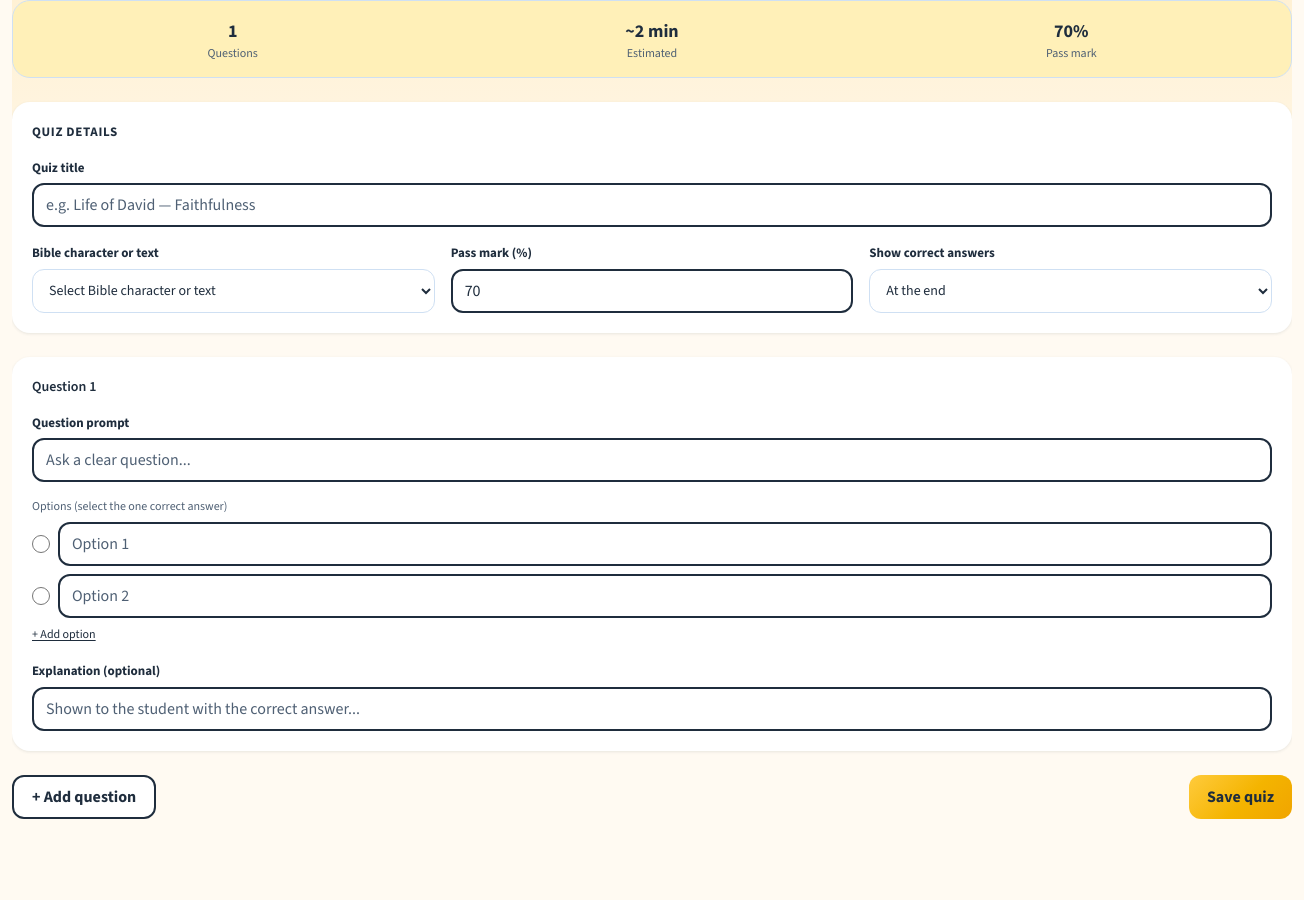
Test case: QuizBuilder › saves when title, Bible link, pass mark, options, and correct answer are valid
This screenshot has width=1304, height=900.
Type "Faith Quiz" into the field labelled "Quiz title".
click(652, 205); type("Faith Quiz")  # box 32,183 -> 1272,227
Select "David (Character)" in the dropdown labelled "Bible character or text" at (233, 290), box 32,268 -> 435,312
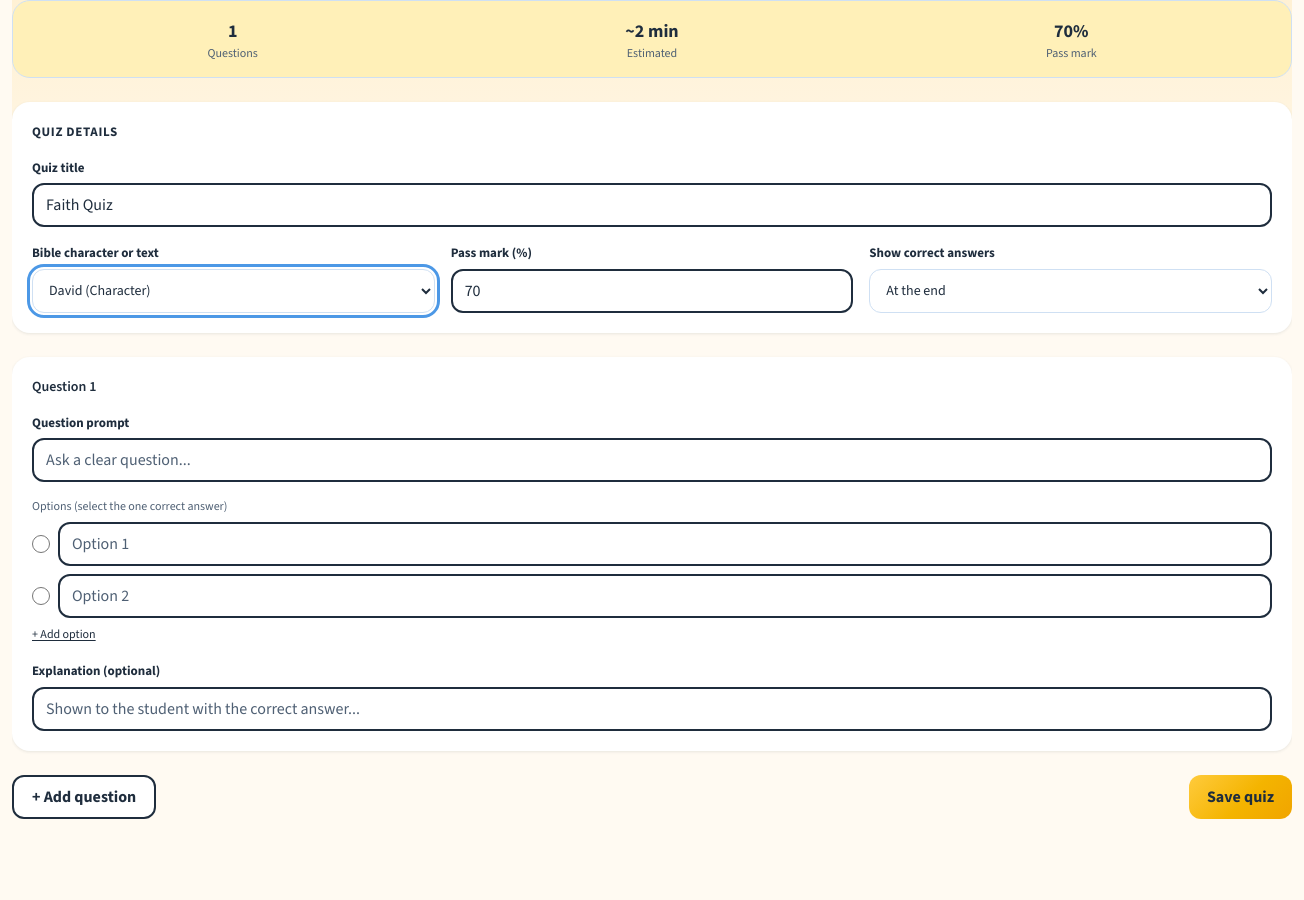
Type "Who defeated Goliath?" into the field labelled "Question prompt".
click(652, 460); type("Who defeated Goliath?")  # box 32,438 -> 1272,482
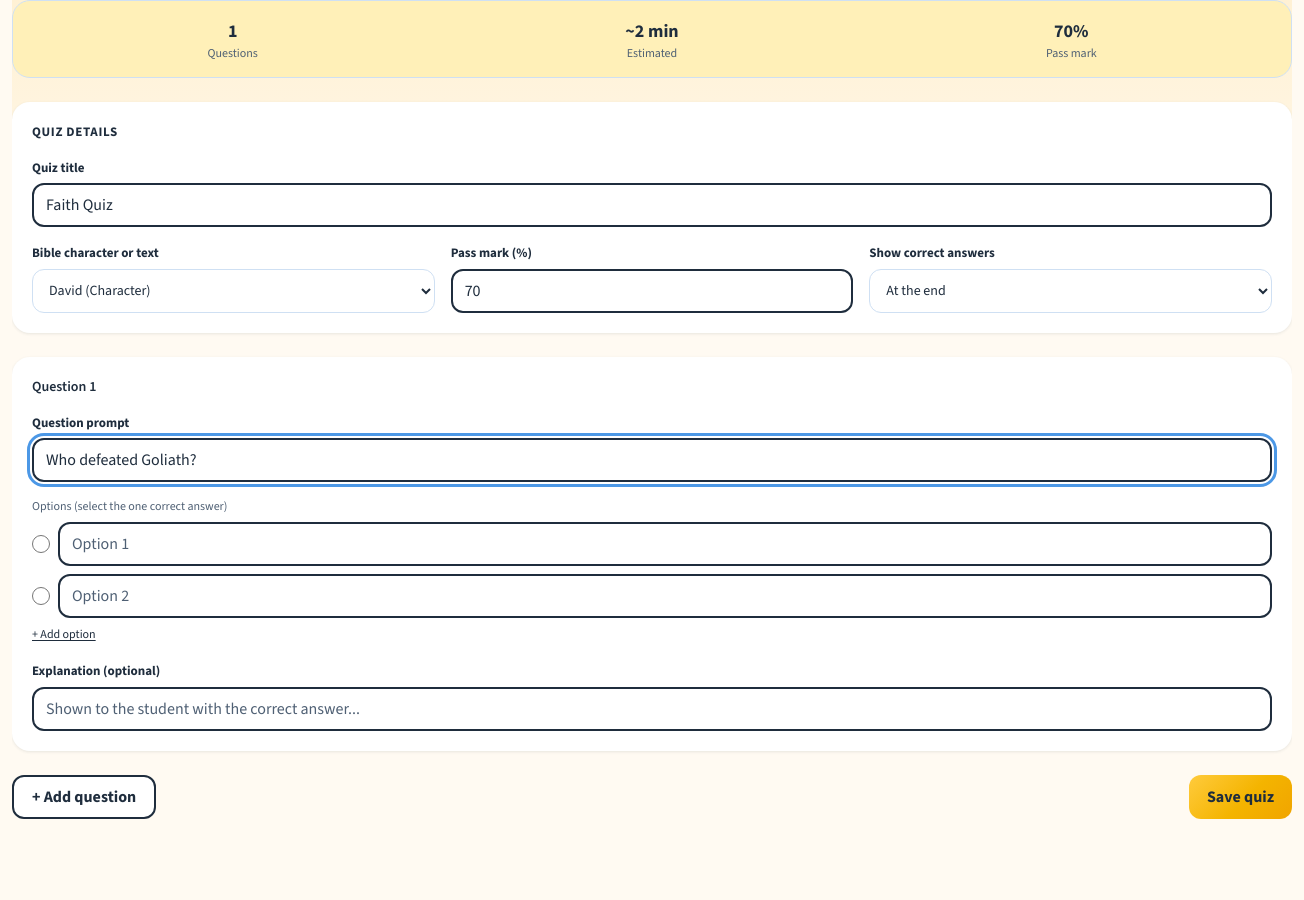
Type "David" into the field named "option 1 text".
click(665, 544); type("David")  # box 58,522 -> 1272,566
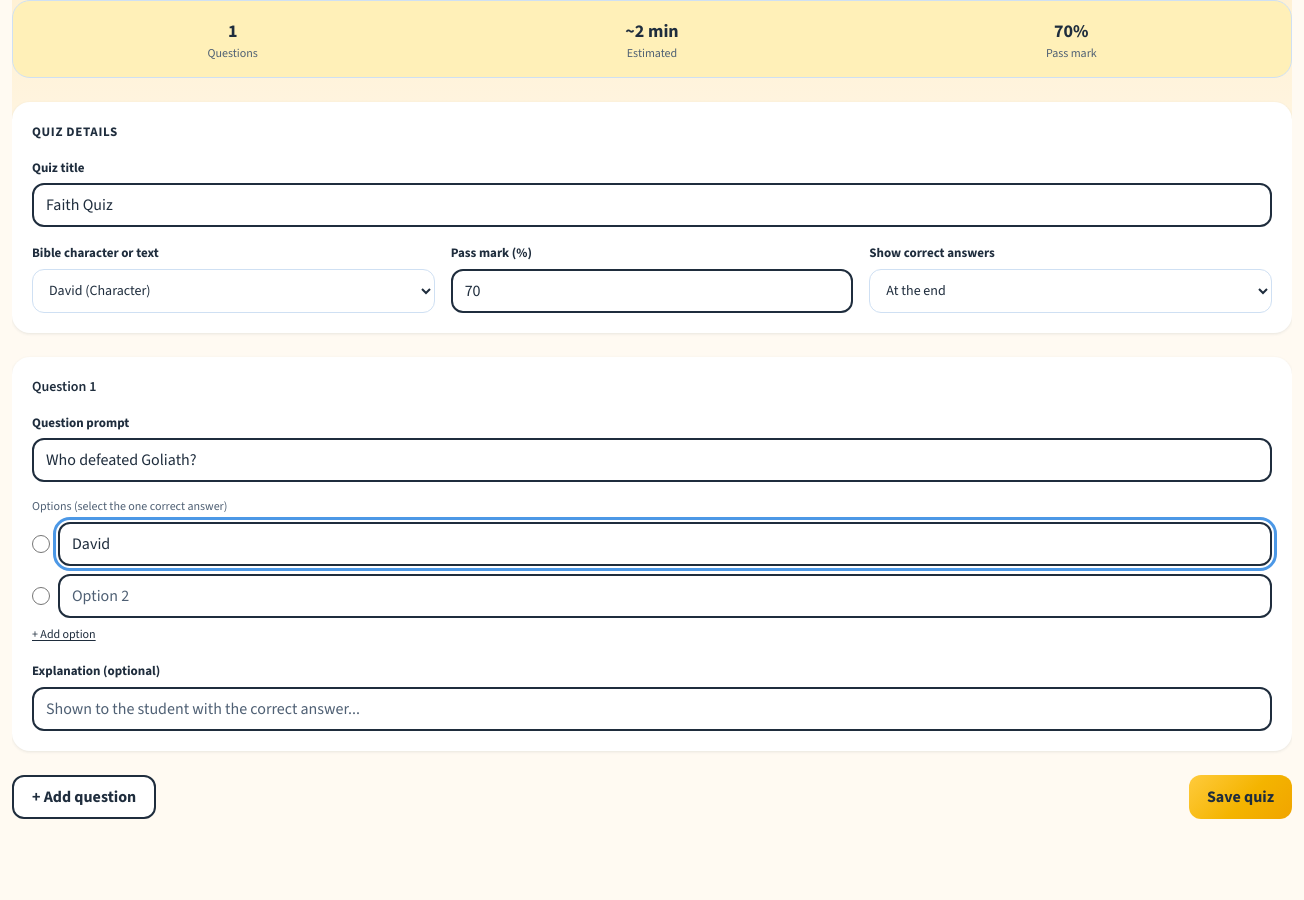
Type "Saul" into the field named "option 2 text".
click(665, 596); type("Saul")  # box 58,574 -> 1272,618
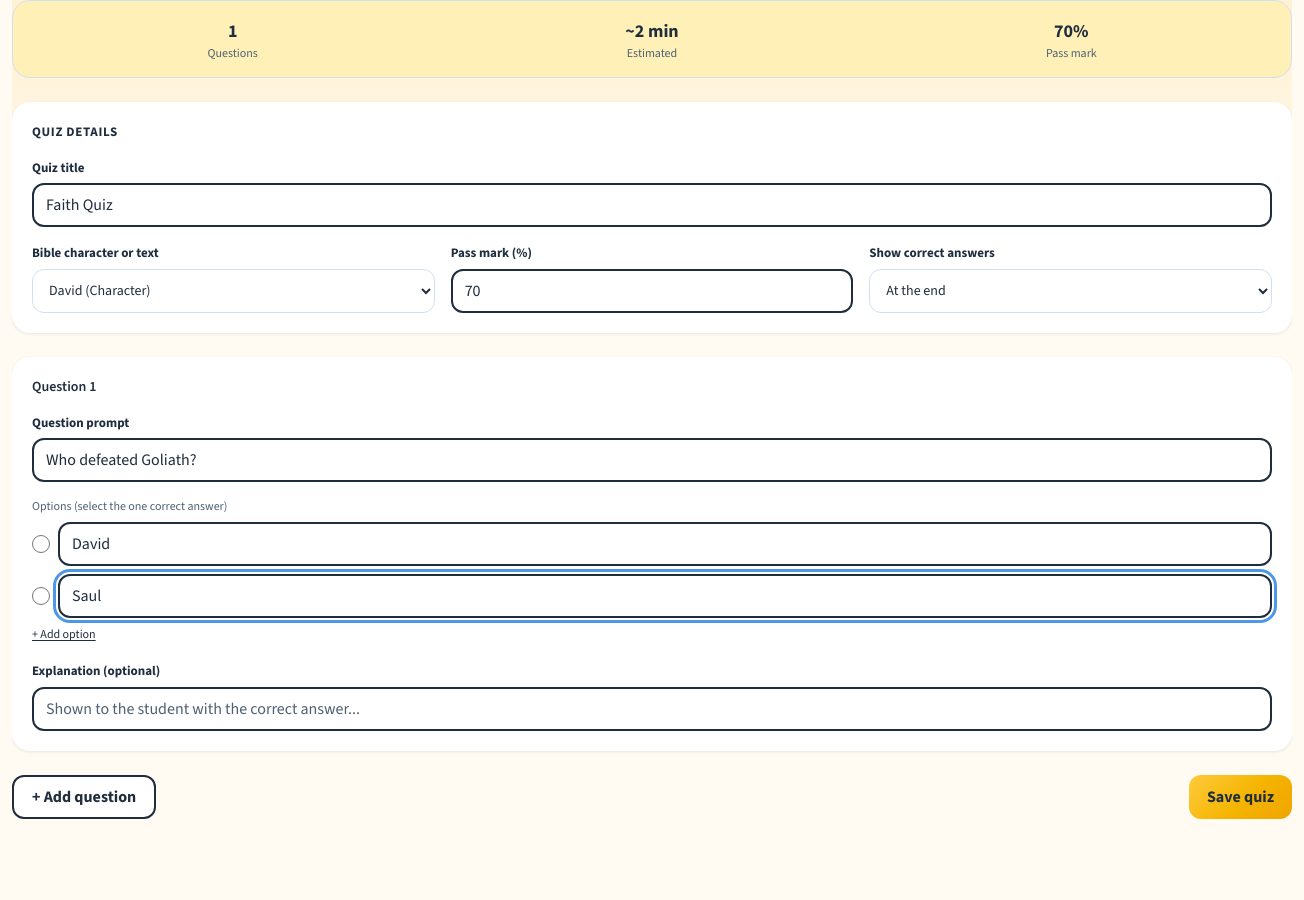
Click the radio button named "mark option 1 as correct".
click(41, 544)  # box 32,535 -> 50,553
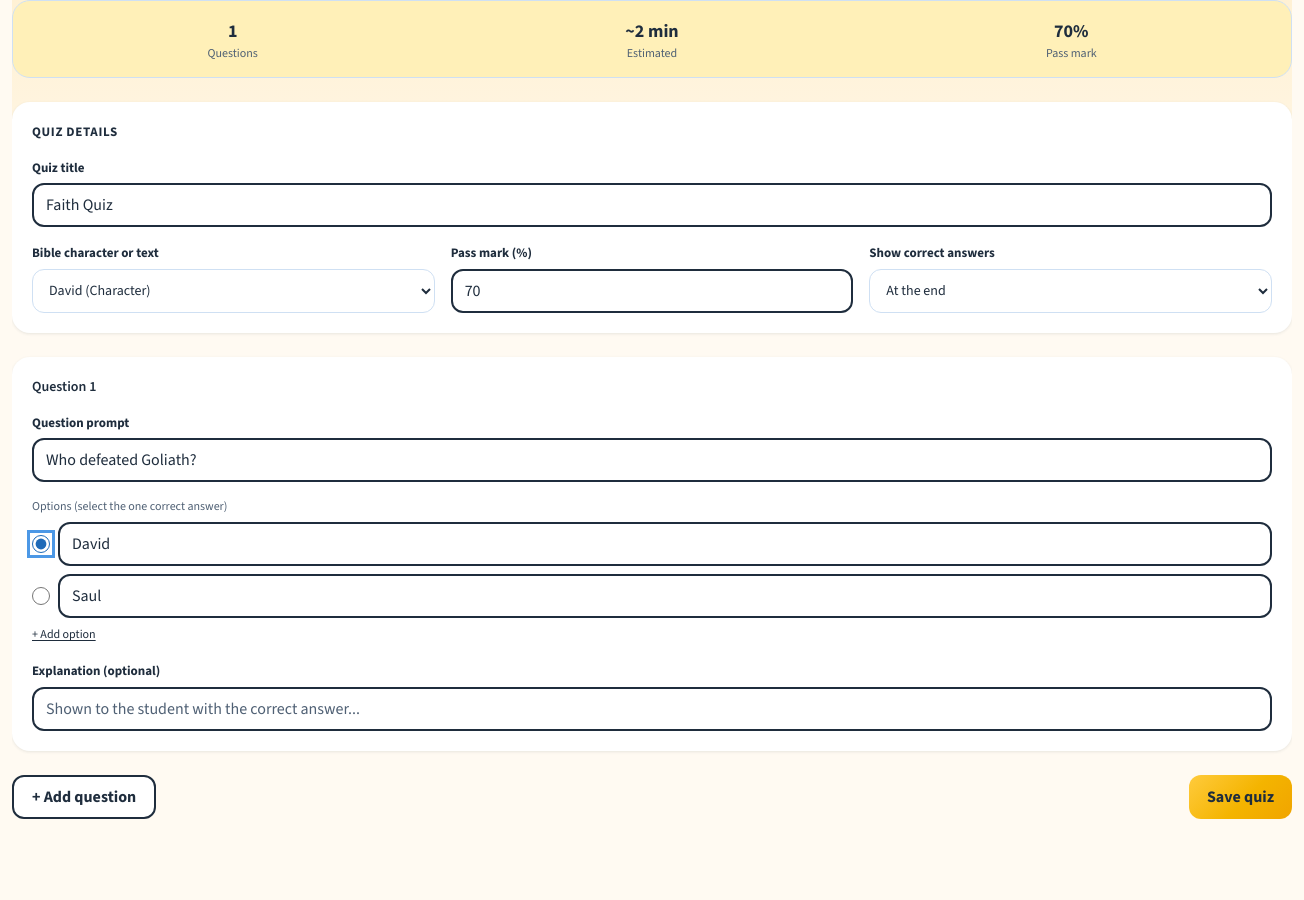
Click the button "Save quiz".
click(1240, 796)  # box 1189,774 -> 1292,818
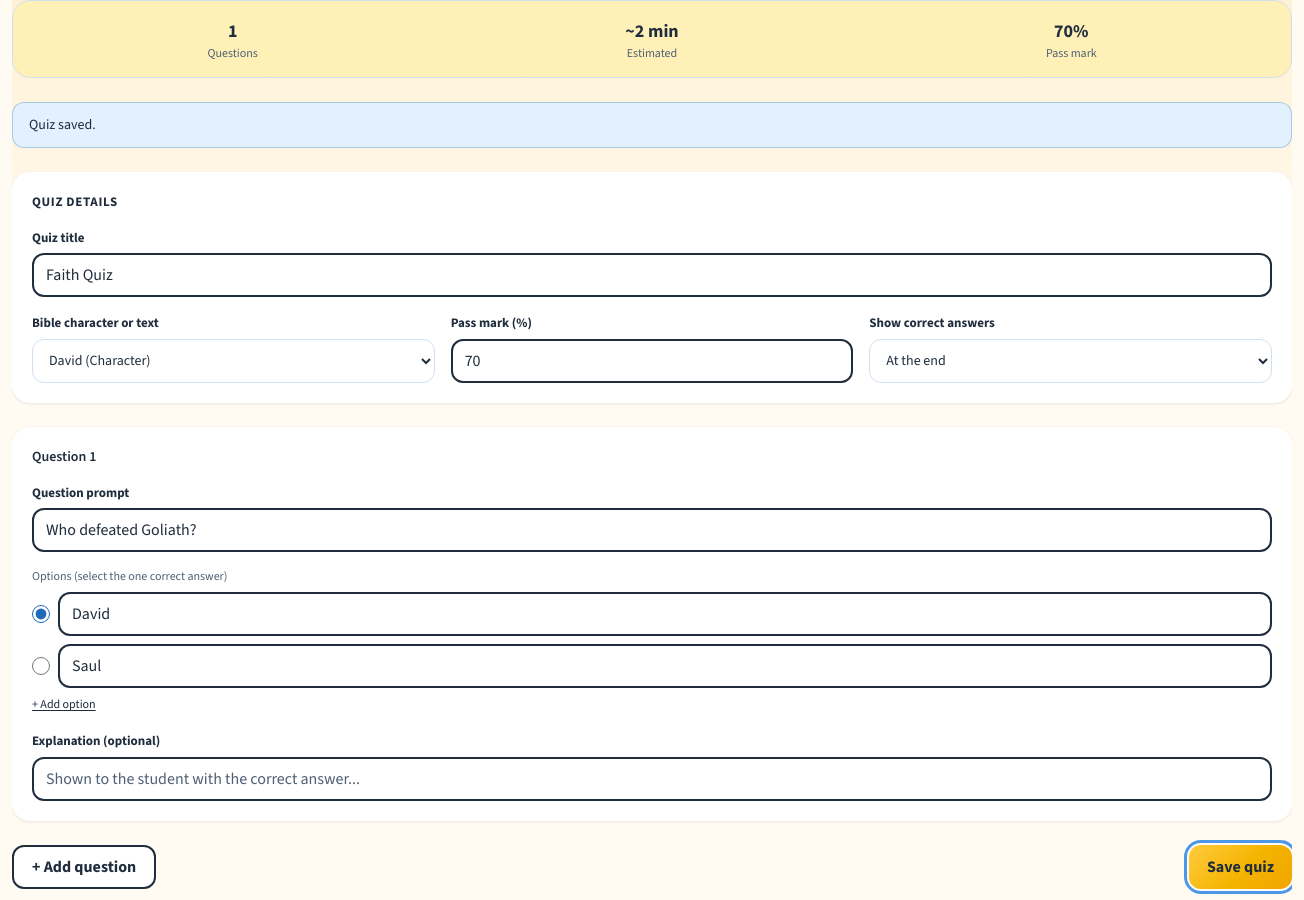
Check: the text "Quiz saved." is shown, box 12,102 -> 1292,148
